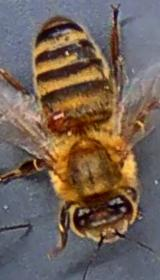varroa_mite: (39, 97, 73, 137)
